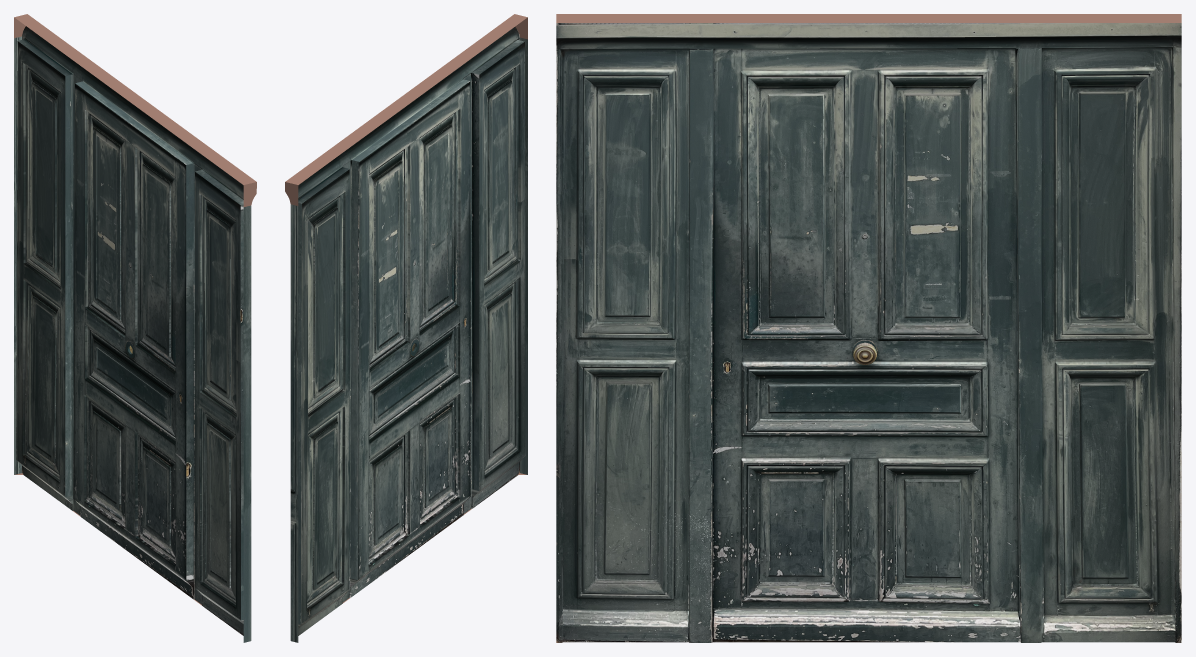
Rendered from low_poly_old_wooden_door.glb.
3 views of the same model, side by side, from view 1: azimuth 30°, elevation 25°; view 2: azimuth 150°, elevation 25°; view 3: azimuth 270°, elevation 25° (orthographic). The views are drawn at different scales.
Visible parts, largest first — view 1: Door diffuse_1; view 2: Door diffuse_1; view 3: Door diffuse_1.
Part boxes in pixels (x1=…): Door diffuse_1: x1=14, y1=14, x2=256, y2=642; Door diffuse_1: x1=285, y1=14, x2=527, y2=642; Door diffuse_1: x1=556, y1=14, x2=1181, y2=642.
Bounding box in the file's own units: 0.0306 × 1 × 0.9084.
1 material, 1 textured.
